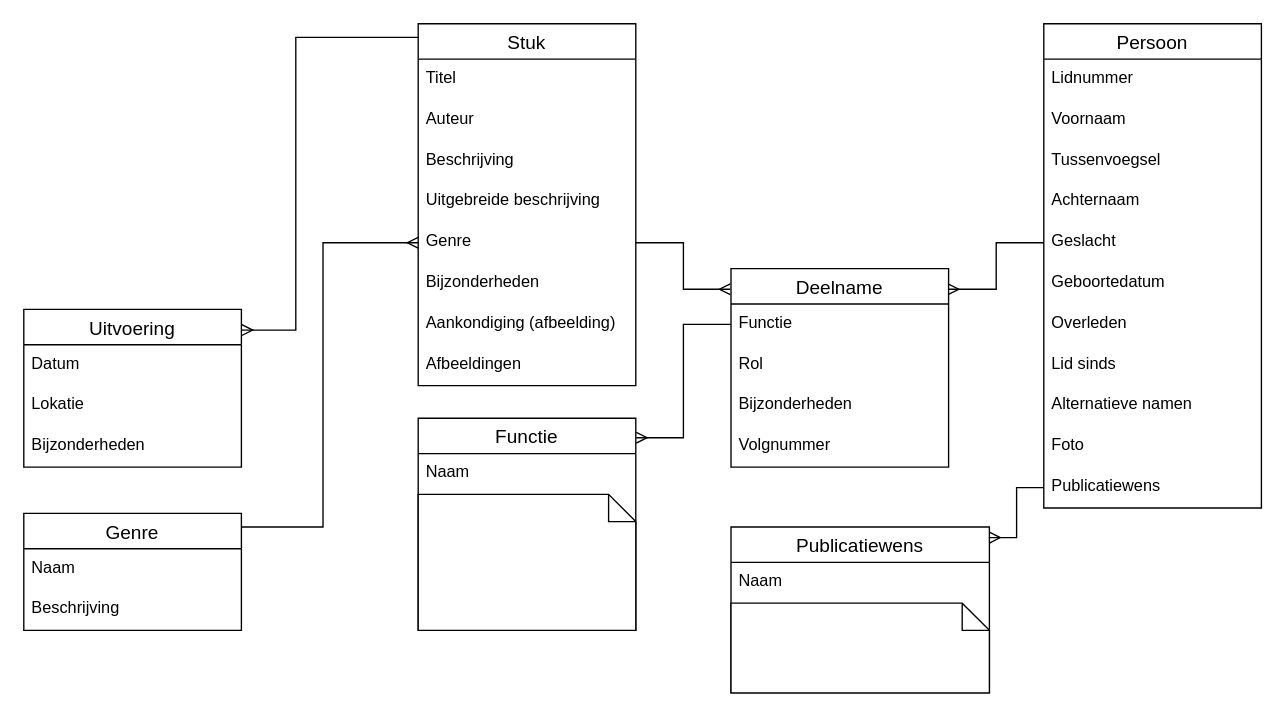
This 1285x728 diagram has some shape labels left out. Each missing label, with the centre of its shape:
"Niet zichtbaar Alleen naam (standaard) Alles" belongs at (859,647).
"Speler Regisseur Techniek Decor Souffleur etc." belongs at (526,561).
